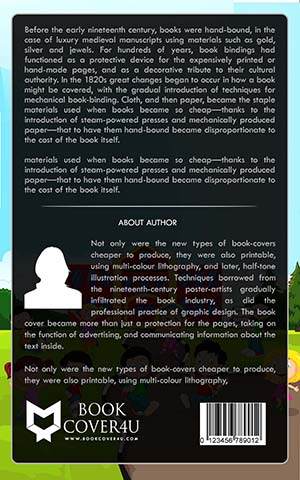barcode: (200, 403, 266, 444)
